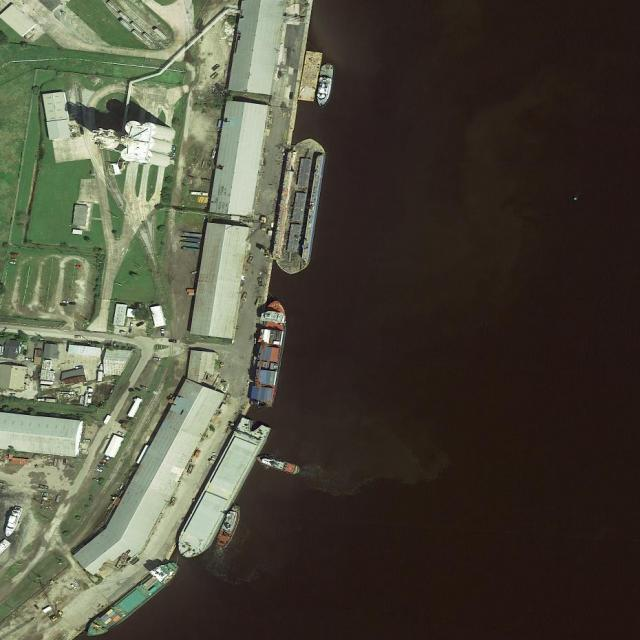Container Ship: (83, 557, 184, 640), (242, 296, 292, 409)
Other Ship: (213, 500, 247, 550), (253, 451, 303, 478), (313, 61, 337, 108)
RoRo: (170, 409, 276, 566)
